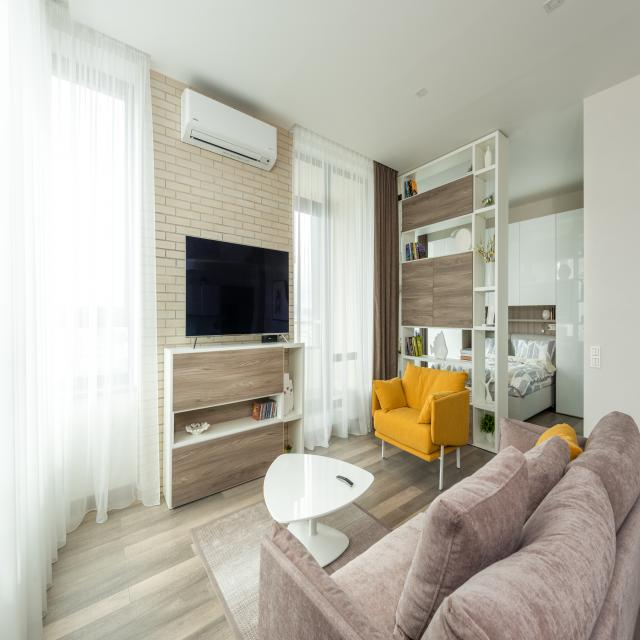floor: (42, 475, 268, 640), (304, 429, 498, 531), (523, 407, 584, 437)
wall: (150, 69, 294, 493), (583, 75, 640, 438), (508, 190, 584, 419), (498, 130, 509, 452), (474, 330, 485, 403), (428, 237, 457, 257), (474, 214, 486, 253), (474, 252, 486, 288), (474, 407, 486, 442), (474, 291, 485, 326), (475, 176, 486, 210), (403, 234, 415, 262), (475, 145, 486, 172)
